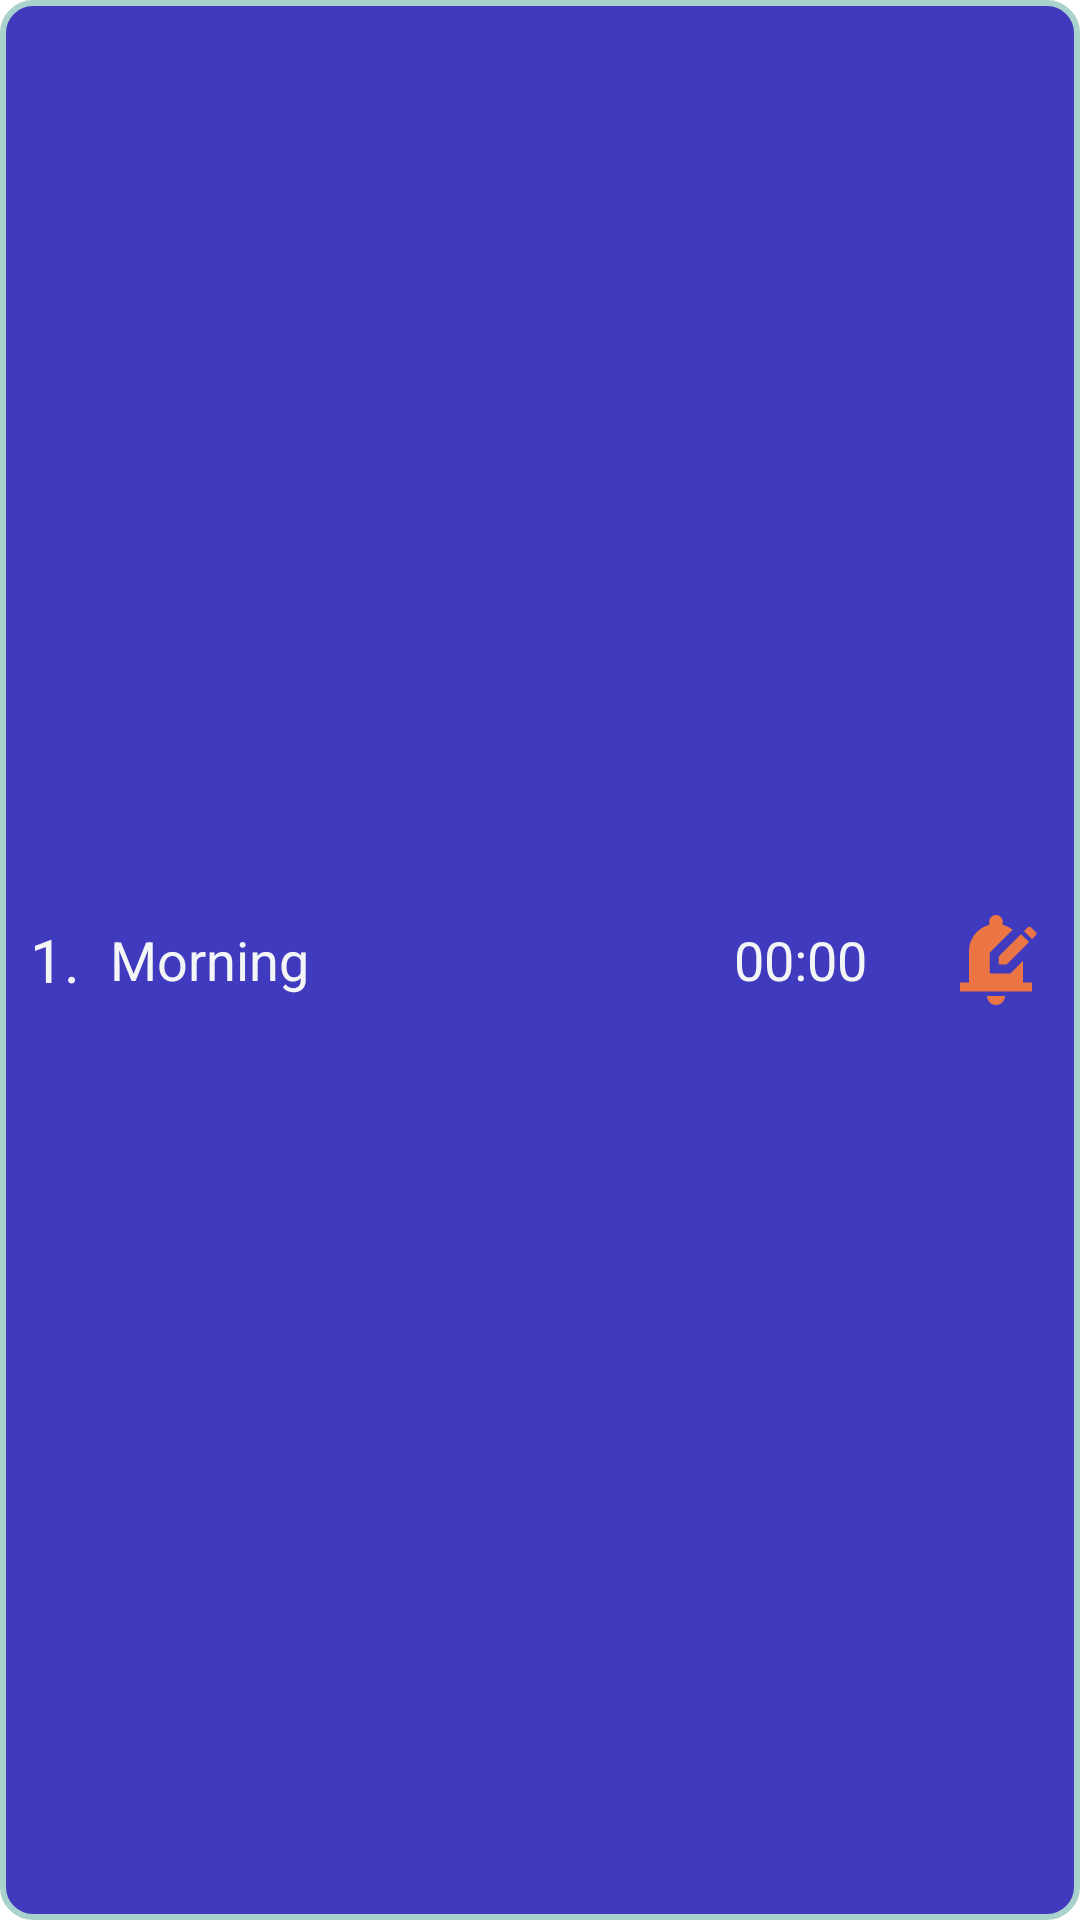

Screen size 1080px x 1920px. Icon name, then its center in pixels as point (x, y):
edit notifications: point (998, 960)
